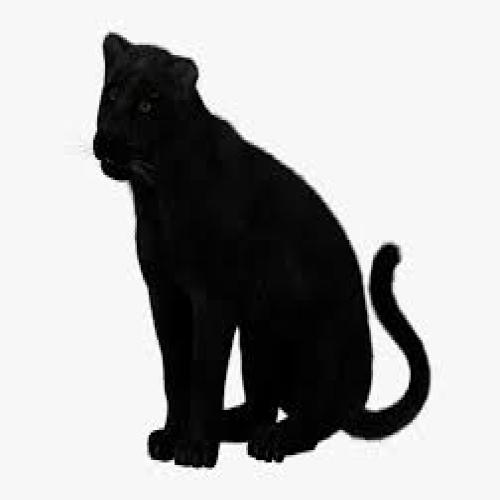panther-endangered: (91, 31, 430, 471)
